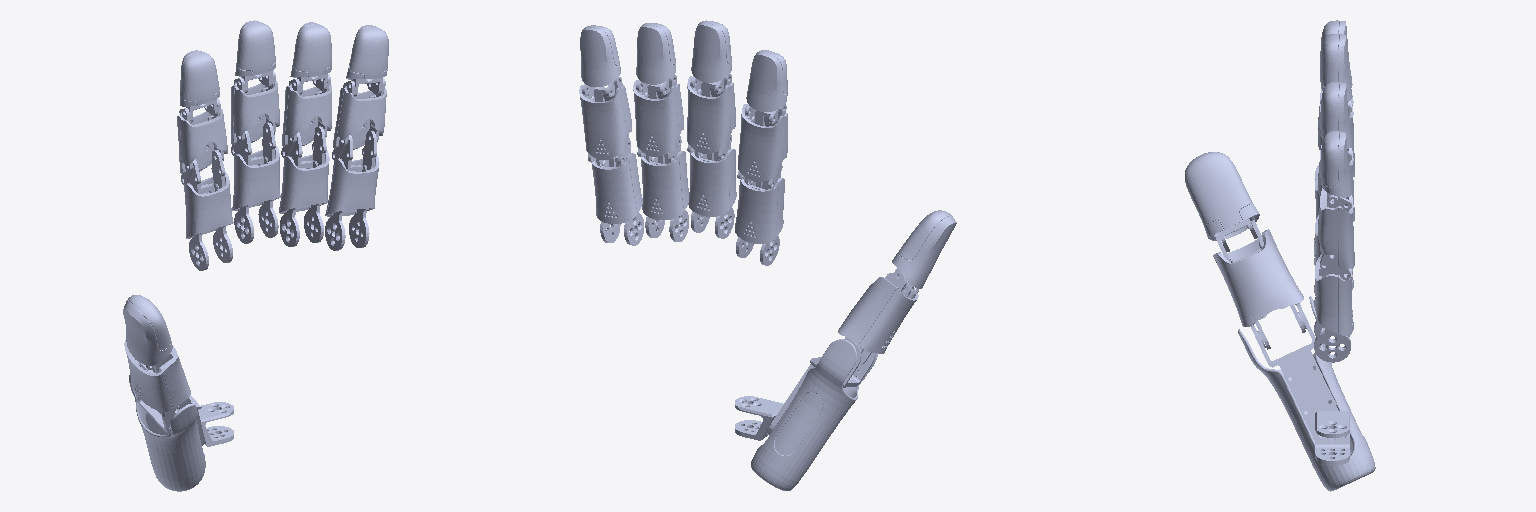
robot.urdf — lefthand:
<?xml version="1.0" encoding="utf-8"?>
<!-- This URDF was automatically created by SolidWorks to URDF Exporter! Originally created by [author] ([email redacted]) 
     Commit Version: 1.6.0-1-g15f4949  Build Version: 1.6.7594.29634
     For more information, please see http://wiki.ros.org/sw_urdf_exporter -->
<robot
  name="lefthand">
  <link
    name="base_link">
    <inertial>
      <origin
        xyz="0.0011546 0.0017609 0.058173"
        rpy="0 0 0" />
      <mass
        value="0.41998" />
      <inertia
        ixx="0.00023358"
        ixy="1.7595E-07"
        ixz="3.6135E-05"
        iyy="0.00042878"
        iyz="-1.3113E-05"
        izz="0.00023196" />
    </inertial>
    <visual>
      <origin
        xyz="0 0 0"
        rpy="0 0 0" />
      <geometry>
        <mesh
          filename="package://lefthand/meshes/base_link.dae" />
      </geometry>
      <material
        name="">
        <color
          rgba="0.79216 0.81961 0.93333 1" />
      </material>
    </visual>
    <collision>
      <origin
        xyz="0 0 0"
        rpy="0 0 0" />
      <geometry>
        <mesh
          filename="package://lefthand/meshes/base_link.dae" />
      </geometry>
    </collision>
  </link>
  <link
    name="index_Link1">
    <inertial>
      <origin
        xyz="0.018514 -0.00061104 -4.4346E-07"
        rpy="0 0 0" />
      <mass
        value="0.011981" />
      <inertia
        ixx="4.9084E-07"
        ixy="-1.4329E-08"
        ixz="-2.1282E-11"
        iyy="1.5764E-06"
        iyz="9.647E-12"
        izz="1.2249E-06" />
    </inertial>
    <visual>
      <origin
        xyz="0 0 0"
        rpy="0 0 0" />
      <geometry>
        <mesh
          filename="package://lefthand/meshes/index_Link1.dae" />
      </geometry>
      <material
        name="">
        <color
          rgba="0.79216 0.81961 0.93333 1" />
      </material>
    </visual>
    <collision>
      <origin
        xyz="0 0 0"
        rpy="0 0 0" />
      <geometry>
        <mesh
          filename="package://lefthand/meshes/index_Link1.dae" />
      </geometry>
    </collision>
  </link>
  <joint
    name="index_MCP"
    type="revolute">
    <origin
      xyz="-0.033581 0.005 0.11001"
      rpy="0 -1.501 3.1416" />
    <parent
      link="base_link" />
    <child
      link="index_Link1" />
    <axis
      xyz="0 0 1" />
    <limit
      lower="0"
      upper="1.5"
      effort="1"
      velocity="3" />
  </joint>
  <link
    name="index_Link2">
    <inertial>
      <origin
        xyz="0.0082825 -0.001941 -1.1297E-07"
        rpy="0 0 0" />
      <mass
        value="0.0060074" />
      <inertia
        ixx="2.6971E-07"
        ixy="-2.2245E-08"
        ixz="1.3382E-11"
        iyy="5.3814E-07"
        iyz="8.42E-12"
        izz="3.0793E-07" />
    </inertial>
    <visual>
      <origin
        xyz="0 0 0"
        rpy="0 0 0" />
      <geometry>
        <mesh
          filename="package://lefthand/meshes/index_Link2.dae" />
      </geometry>
      <material
        name="">
        <color
          rgba="0.79216 0.81961 0.93333 1" />
      </material>
    </visual>
    <collision>
      <origin
        xyz="0 0 0"
        rpy="0 0 0" />
      <geometry>
        <mesh
          filename="package://lefthand/meshes/index_Link2.dae" />
      </geometry>
    </collision>
  </link>
  <joint
    name="index_PIP"
    type="revolute">
    <origin
      xyz="0.0415 0 0"
      rpy="0 0 0" />
    <parent
      link="index_Link1" />
    <child
      link="index_Link2" />
    <axis
      xyz="0 0 1" />
    <limit
      lower="0"
      upper="1.5"
      effort="1"
      velocity="3" />
    <mimic 
       joint="index_MCP"
       multiplier="1.0"
       offset="0" />
  </joint>
  <link
    name="index_Link3">
    <inertial>
      <origin
        xyz="0.011297 -0.0007036 8.3368E-07"
        rpy="0 0 0" />
      <mass
        value="0.0040088" />
      <inertia
        ixx="9.0345E-08"
        ixy="8.3527E-10"
        ixz="8.0239E-12"
        iyy="2.173E-07"
        iyz="-1.1263E-11"
        izz="1.5733E-07" />
    </inertial>
    <visual>
      <origin
        xyz="0 0 0"
        rpy="0 0 0" />
      <geometry>
        <mesh
          filename="package://lefthand/meshes/index_Link3.dae" />
      </geometry>
      <material
        name="">
        <color
          rgba="0.79216 0.81961 0.93333 1" />
      </material>
    </visual>
    <collision>
      <origin
        xyz="0 0 0"
        rpy="0 0 0" />
      <geometry>
        <mesh
          filename="package://lefthand/meshes/index_Link3.dae" />
      </geometry>
    </collision>
  </link>
  <joint
    name="index_DIP"
    type="revolute">
    <origin
      xyz="0.0245 0 0"
      rpy="0 0 0" />
    <parent
      link="index_Link2" />
    <child
      link="index_Link3" />
    <axis
      xyz="0 0 1" />
    <limit
      lower="0"
      upper="1.5"
      effort="1"
      velocity="3" />
    <mimic 
      joint="index_PIP"
      multiplier="0.8"
      offset="0" />
  </joint>
  <link
    name="thumb_Link1">
    <inertial>
      <origin
        xyz="0.023455 0.0065195 0.00709"
        rpy="0 0 0" />
      <mass
        value="0.069899" />
      <inertia
        ixx="1.7581E-05"
        ixy="-2.2268E-06"
        ixz="-4.9103E-06"
        iyy="1.6388E-05"
        iyz="-3.9623E-06"
        izz="1.1323E-05" />
    </inertial>
    <visual>
      <origin
        xyz="0 0 0"
        rpy="0 0 0" />
      <geometry>
        <mesh
          filename="package://lefthand/meshes/thumb_Link1.dae" />
      </geometry>
      <material
        name="">
        <color
          rgba="0.79216 0.81961 0.93333 1" />
      </material>
    </visual>
    <collision>
      <origin
        xyz="0 0 0"
        rpy="0 0 0" />
      <geometry>
        <mesh
          filename="package://lefthand/meshes/thumb_Link1.dae" />
      </geometry>
    </collision>
  </link>
  <joint
    name="thumb_CMC"
    type="revolute">
    <origin
      xyz="-0.03 0.005 0.031"
      rpy="0 0 3.1416" />
    <parent
      link="base_link" />
    <child
      link="thumb_Link1" />
    <axis
      xyz="0 0 1" />
    <limit
      lower="-0.5"
      upper="1.5"
      effort="1"
      velocity="3" />
  </joint>
  <link
    name="thumb_Link2">
    <inertial>
      <origin
        xyz="0.019578 0.0022668 -1.2981E-06"
        rpy="0 0 0" />
      <mass
        value="0.014007" />
      <inertia
        ixx="9.4043E-07"
        ixy="4.0439E-08"
        ixz="-2.041E-10"
        iyy="1.8622E-06"
        iyz="-4.8342E-11"
        izz="1.2635E-06" />
    </inertial>
    <visual>
      <origin
        xyz="0 0 0"
        rpy="0 0 0" />
      <geometry>
        <mesh
          filename="package://lefthand/meshes/thumb_Link2.dae" />
      </geometry>
      <material
        name="">
        <color
          rgba="0.79216 0.81961 0.93333 1" />
      </material>
    </visual>
    <collision>
      <origin
        xyz="0 0 0"
        rpy="0 0 0" />
      <geometry>
        <mesh
          filename="package://lefthand/meshes/thumb_Link2.dae" />
      </geometry>
    </collision>
  </link>
  <joint
    name="thumb_MP"
    type="revolute">
    <origin
      xyz="0.037554 0.019018 0.029117"
      rpy="0.83451 -0.96385 0.83451" />
    <parent
      link="thumb_Link1" />
    <child
      link="thumb_Link2" />
    <axis
      xyz="0 0 1" />
    <limit
      lower="-1"
      upper="1"
      effort="1"
      velocity="3" />
  </joint>
  <link
    name="thumb_Link3">
    <inertial>
      <origin
        xyz="0.015427 0.00030817 4.6145E-05"
        rpy="0 0 0" />
      <mass
        value="0.0069853" />
      <inertia
        ixx="2.4628E-07"
        ixy="2.2831E-08"
        ixz="-6.4653E-10"
        iyy="5.9224E-07"
        iyz="1.1226E-09"
        izz="4.4492E-07" />
    </inertial>
    <visual>
      <origin
        xyz="0 0 0"
        rpy="0 0 0" />
      <geometry>
        <mesh
          filename="package://lefthand/meshes/thumb_Link3.dae" />
      </geometry>
      <material
        name="">
        <color
          rgba="0.79216 0.81961 0.93333 1" />
      </material>
    </visual>
    <collision>
      <origin
        xyz="0 0 0"
        rpy="0 0 0" />
      <geometry>
        <mesh
          filename="package://lefthand/meshes/thumb_Link3.dae" />
      </geometry>
    </collision>
  </link>
  <joint
    name="thumb_IP"
    type="revolute">
    <origin
      xyz="0.04 0 0"
      rpy="0 0 0" />
    <parent
      link="thumb_Link2" />
    <child
      link="thumb_Link3" />
    <axis
      xyz="0 0 1" />
    <limit
      lower="0"
      upper="1"
      effort="1"
      velocity="3" />
  </joint>
  <link
    name="middle_Link1">
    <inertial>
      <origin
        xyz="0.018514 -0.00061105 -4.4409E-07"
        rpy="0 0 0" />
      <mass
        value="0.011981" />
      <inertia
        ixx="4.9084E-07"
        ixy="-1.4329E-08"
        ixz="-2.1722E-11"
        iyy="1.5764E-06"
        iyz="9.5695E-12"
        izz="1.2249E-06" />
    </inertial>
    <visual>
      <origin
        xyz="0 0 0"
        rpy="0 0 0" />
      <geometry>
        <mesh
          filename="package://lefthand/meshes/middle_Link1.dae" />
      </geometry>
      <material
        name="">
        <color
          rgba="0.79216 0.81961 0.93333 1" />
      </material>
    </visual>
    <collision>
      <origin
        xyz="0 0 0"
        rpy="0 0 0" />
      <geometry>
        <mesh
          filename="package://lefthand/meshes/middle_Link1.dae" />
      </geometry>
    </collision>
  </link>
  <joint
    name="middle_MCP"
    type="revolute">
    <origin
      xyz="-0.012 0.005 0.117"
      rpy="-3.1416 -1.5708 0" />
    <parent
      link="base_link" />
    <child
      link="middle_Link1" />
    <axis
      xyz="0 0 1" />
    <limit
      lower="0"
      upper="1.5"
      effort="1"
      velocity="3" />
  </joint>
  <link
    name="middle_Link2">
    <inertial>
      <origin
        xyz="0.013657 -0.001941 -1.4023E-07"
        rpy="0 0 0" />
      <mass
        value="0.0060074" />
      <inertia
        ixx="2.6971E-07"
        ixy="-2.2245E-08"
        ixz="1.2735E-11"
        iyy="5.3814E-07"
        iyz="8.7891E-12"
        izz="3.0793E-07" />
    </inertial>
    <visual>
      <origin
        xyz="0 0 0"
        rpy="0 0 0" />
      <geometry>
        <mesh
          filename="package://lefthand/meshes/middle_Link2.dae" />
      </geometry>
      <material
        name="">
        <color
          rgba="0.79216 0.81961 0.93333 1" />
      </material>
    </visual>
    <collision>
      <origin
        xyz="0 0 0"
        rpy="0 0 0" />
      <geometry>
        <mesh
          filename="package://lefthand/meshes/middle_Link2.dae" />
      </geometry>
    </collision>
  </link>
  <joint
    name="middle_PIP"
    type="revolute">
    <origin
      xyz="0.036125 0 0"
      rpy="0 0 0" />
    <parent
      link="middle_Link1" />
    <child
      link="middle_Link2" />
    <axis
      xyz="0 0 1" />
    <limit
      lower="0"
      upper="1.5"
      effort="1"
      velocity="3" />
    <mimic 
      joint="middle_MCP"
      multiplier="1.0"
      offset="0" />
  </joint>
  <link
    name="middle_Link3">
    <inertial>
      <origin
        xyz="0.011297 -0.00070372 5.4464E-07"
        rpy="0 0 0" />
      <mass
        value="0.0040087" />
      <inertia
        ixx="9.0335E-08"
        ixy="8.3332E-10"
        ixz="5.552E-12"
        iyy="2.1729E-07"
        iyz="-4.7458E-12"
        izz="1.5732E-07" />
    </inertial>
    <visual>
      <origin
        xyz="0 0 0"
        rpy="0 0 0" />
      <geometry>
        <mesh
          filename="package://lefthand/meshes/middle_Link3.dae" />
      </geometry>
      <material
        name="">
        <color
          rgba="0.79216 0.81961 0.93333 1" />
      </material>
    </visual>
    <collision>
      <origin
        xyz="0 0 0"
        rpy="0 0 0" />
      <geometry>
        <mesh
          filename="package://lefthand/meshes/middle_Link3.dae" />
      </geometry>
    </collision>
  </link>
  <joint
    name="middle_DIP"
    type="revolute">
    <origin
      xyz="0.029875 0 0"
      rpy="0 0 0" />
    <parent
      link="middle_Link2" />
    <child
      link="middle_Link3" />
    <axis
      xyz="0 0 1" />
    <limit
      lower="0"
      upper="1.5"
      effort="1"
      velocity="3" />
    <mimic 
      joint="middle_PIP"
      multiplier="0.8"
      offset="0" />
  </joint>
  <link
    name="ring_Link1">
    <inertial>
      <origin
        xyz="0.018514 -0.00061106 -4.4635E-07"
        rpy="0 0 0" />
      <mass
        value="0.011981" />
      <inertia
        ixx="4.9084E-07"
        ixy="-1.433E-08"
        ixz="-2.2208E-11"
        iyy="1.5764E-06"
        iyz="9.5807E-12"
        izz="1.2249E-06" />
    </inertial>
    <visual>
      <origin
        xyz="0 0 0"
        rpy="0 0 0" />
      <geometry>
        <mesh
          filename="package://lefthand/meshes/ring_Link1.dae" />
      </geometry>
      <material
        name="">
        <color
          rgba="0.79216 0.81961 0.93333 1" />
      </material>
    </visual>
    <collision>
      <origin
        xyz="0 0 0"
        rpy="0 0 0" />
      <geometry>
        <mesh
          filename="package://lefthand/meshes/ring_Link1.dae" />
      </geometry>
    </collision>
  </link>
  <joint
    name="ring_MCP"
    type="revolute">
    <origin
      xyz="0.0095815 0.005 0.11001"
      rpy="-3.1416 -1.501 0" />
    <parent
      link="base_link" />
    <child
      link="ring_Link1" />
    <axis
      xyz="0 0 1" />
    <limit
      lower="0"
      upper="1.5"
      effort="1"
      velocity="3" />
  </joint>
  <link
    name="ring_Link2">
    <inertial>
      <origin
        xyz="0.0082824 -0.001941 -1.3504E-07"
        rpy="0 0 0" />
      <mass
        value="0.0060074" />
      <inertia
        ixx="2.6971E-07"
        ixy="-2.2245E-08"
        ixz="1.2713E-11"
        iyy="5.3814E-07"
        iyz="8.8088E-12"
        izz="3.0793E-07" />
    </inertial>
    <visual>
      <origin
        xyz="0 0 0"
        rpy="0 0 0" />
      <geometry>
        <mesh
          filename="package://lefthand/meshes/ring_Link2.dae" />
      </geometry>
      <material
        name="">
        <color
          rgba="0.79216 0.81961 0.93333 1" />
      </material>
    </visual>
    <collision>
      <origin
        xyz="0 0 0"
        rpy="0 0 0" />
      <geometry>
        <mesh
          filename="package://lefthand/meshes/ring_Link2.dae" />
      </geometry>
    </collision>
  </link>
  <joint
    name="ring_PIP"
    type="revolute">
    <origin
      xyz="0.0415 0 0"
      rpy="0 0 0" />
    <parent
      link="ring_Link1" />
    <child
      link="ring_Link2" />
    <axis
      xyz="0 0 1" />
    <limit
      lower="0"
      upper="1.5"
      effort="1"
      velocity="3" />
    <mimic 
      joint="ring_MCP"
      multiplier="1.0"
      offset="0" />
  </joint>
  <link
    name="ring_Link3">
    <inertial>
      <origin
        xyz="0.011297 -0.00070376 4.4952E-07"
        rpy="0 0 0" />
      <mass
        value="0.0040086" />
      <inertia
        ixx="9.0332E-08"
        ixy="8.3253E-10"
        ixz="4.175E-12"
        iyy="2.1729E-07"
        iyz="-2.2751E-12"
        izz="1.5732E-07" />
    </inertial>
    <visual>
      <origin
        xyz="0 0 0"
        rpy="0 0 0" />
      <geometry>
        <mesh
          filename="package://lefthand/meshes/ring_Link3.dae" />
      </geometry>
      <material
        name="">
        <color
          rgba="0.79216 0.81961 0.93333 1" />
      </material>
    </visual>
    <collision>
      <origin
        xyz="0 0 0"
        rpy="0 0 0" />
      <geometry>
        <mesh
          filename="package://lefthand/meshes/ring_Link3.dae" />
      </geometry>
    </collision>
  </link>
  <joint
    name="ring_DIP"
    type="revolute">
    <origin
      xyz="0.0245 0 0"
      rpy="0 0 0" />
    <parent
      link="ring_Link2" />
    <child
      link="ring_Link3" />
    <axis
      xyz="0 0 1" />
    <limit
      lower="0"
      upper="1.5"
      effort="1"
      velocity="3" />
    <mimic 
      joint="ring_PIP"
      multiplier="0.8"
      offset="0" />
  </joint>
  <link
    name="little_Link1">
    <inertial>
      <origin
        xyz="0.018514 -0.00061106 -4.4635E-07"
        rpy="0 0 0" />
      <mass
        value="0.011981" />
      <inertia
        ixx="4.9084E-07"
        ixy="-1.433E-08"
        ixz="-2.2208E-11"
        iyy="1.5764E-06"
        iyz="9.5807E-12"
        izz="1.2249E-06" />
    </inertial>
    <visual>
      <origin
        xyz="0 0 0"
        rpy="0 0 0" />
      <geometry>
        <mesh
          filename="package://lefthand/meshes/little_Link1.dae" />
      </geometry>
      <material
        name="">
        <color
          rgba="0.79216 0.81961 0.93333 1" />
      </material>
    </visual>
    <collision>
      <origin
        xyz="0 0 0"
        rpy="0 0 0" />
      <geometry>
        <mesh
          filename="package://lefthand/meshes/little_Link1.dae" />
      </geometry>
    </collision>
  </link>
  <joint
    name="little_MCP"
    type="revolute">
    <origin
      xyz="0.031165 0.005 0.10306"
      rpy="-3.1416 -1.4312 0" />
    <parent
      link="base_link" />
    <child
      link="little_Link1" />
    <axis
      xyz="0 0 1" />
    <limit
      lower="0"
      upper="1.5"
      effort="1"
      velocity="3" />
  </joint>
  <link
    name="little_Link2">
    <inertial>
      <origin
        xyz="0.0082824 -0.001941 -1.3751E-07"
        rpy="0 0 0" />
      <mass
        value="0.0060074" />
      <inertia
        ixx="2.6971E-07"
        ixy="-2.2245E-08"
        ixz="1.2871E-11"
        iyy="5.3814E-07"
        iyz="8.8404E-12"
        izz="3.0793E-07" />
    </inertial>
    <visual>
      <origin
        xyz="0 0 0"
        rpy="0 0 0" />
      <geometry>
        <mesh
          filename="package://lefthand/meshes/little_Link2.dae" />
      </geometry>
      <material
        name="">
        <color
          rgba="0.79216 0.81961 0.93333 1" />
      </material>
    </visual>
    <collision>
      <origin
        xyz="0 0 0"
        rpy="0 0 0" />
      <geometry>
        <mesh
          filename="package://lefthand/meshes/little_Link2.dae" />
      </geometry>
    </collision>
  </link>
  <joint
    name="little_PIP"
    type="revolute">
    <origin
      xyz="0.0415 0 0"
      rpy="0 0 0" />
    <parent
      link="little_Link1" />
    <child
      link="little_Link2" />
    <axis
      xyz="0 0 1" />
    <limit
      lower="0"
      upper="1.5"
      effort="1"
      velocity="3" />
    <mimic 
      joint="little_MCP"
      multiplier="1.0"
      offset="0" />
  </joint>
  <link
    name="little_Link3">
    <inertial>
      <origin
        xyz="0.011297 -0.00070377 4.4851E-07"
        rpy="0 0 0" />
      <mass
        value="0.0040086" />
      <inertia
        ixx="9.0332E-08"
        ixy="8.3248E-10"
        ixz="3.8929E-12"
        iyy="2.1729E-07"
        iyz="-2.3079E-12"
        izz="1.5732E-07" />
    </inertial>
    <visual>
      <origin
        xyz="0 0 0"
        rpy="0 0 0" />
      <geometry>
        <mesh
          filename="package://lefthand/meshes/little_Link3.dae" />
      </geometry>
      <material
        name="">
        <color
          rgba="0.79216 0.81961 0.93333 1" />
      </material>
    </visual>
    <collision>
      <origin
        xyz="0 0 0"
        rpy="0 0 0" />
      <geometry>
        <mesh
          filename="package://lefthand/meshes/little_Link3.dae" />
      </geometry>
    </collision>
  </link>
  <joint
    name="little_DIP"
    type="revolute">
    <origin
      xyz="0.0245 0 0"
      rpy="0 0 0" />
    <parent
      link="little_Link2" />
    <child
      link="little_Link3" />
    <axis
      xyz="0 0 1" />
    <limit
      lower="0"
      upper="1.5"
      effort="1"
      velocity="3" />
    <mimic 
      joint="little_PIP"
      multiplier="0.8"
      offset="0" />
  </joint>
</robot>

--- Render facts (derived) ---
Views: 3 orthographic renders of the robot side by side, from view 1: azimuth 30°, elevation 25°; view 2: azimuth 150°, elevation 25°; view 3: azimuth 270°, elevation 25°.
Model lefthand with 16 links and 15 joints (15 revolute), rooted at base_link, posed all joints at 0.
Links seen in each view (by area): view 1: thumb_Link1, little_Link1, ring_Link1, middle_Link1, index_Link1, little_Link2, ring_Link2, middle_Link2, index_Link2, thumb_Link2, thumb_Link3, little_Link3 (+3 smaller); view 2: thumb_Link1, thumb_Link2, little_Link1, ring_Link1, middle_Link1, index_Link1, little_Link2, ring_Link2, middle_Link2, index_Link2, thumb_Link3, little_Link3 (+3 smaller); view 3: thumb_Link1, thumb_Link2, thumb_Link3, little_Link1, little_Link2, little_Link3, ring_Link3, middle_Link3.
Link boxes in pixels (bbox=[...]): thumb_Link1: bbox=[129, 375, 233, 491]; little_Link1: bbox=[325, 131, 379, 250]; ring_Link1: bbox=[279, 126, 329, 246]; middle_Link1: bbox=[232, 122, 280, 243]; index_Link1: bbox=[184, 150, 233, 270]; little_Link2: bbox=[332, 78, 386, 159]; ring_Link2: bbox=[281, 74, 331, 157]; middle_Link2: bbox=[231, 70, 279, 155]; index_Link2: bbox=[177, 98, 227, 184]; thumb_Link2: bbox=[124, 340, 190, 411]; thumb_Link3: bbox=[123, 295, 172, 369]; little_Link3: bbox=[343, 25, 388, 96]; thumb_Link1: bbox=[735, 339, 877, 490]; thumb_Link2: bbox=[838, 272, 918, 364]; little_Link1: bbox=[591, 138, 643, 245]; ring_Link1: bbox=[641, 136, 688, 241]; middle_Link1: bbox=[688, 135, 736, 238]; index_Link1: bbox=[735, 166, 784, 265]; little_Link2: bbox=[579, 77, 631, 164]; ring_Link2: bbox=[633, 75, 683, 162]; middle_Link2: bbox=[687, 74, 735, 159]; index_Link2: bbox=[737, 104, 787, 188]; thumb_Link3: bbox=[892, 210, 956, 294]; little_Link3: bbox=[580, 25, 620, 96]; thumb_Link1: bbox=[1238, 296, 1375, 491]; thumb_Link2: bbox=[1213, 220, 1305, 349]; thumb_Link3: bbox=[1185, 152, 1259, 251]; little_Link1: bbox=[1314, 246, 1353, 362]; little_Link2: bbox=[1318, 188, 1354, 279]; little_Link3: bbox=[1320, 131, 1352, 210]; ring_Link3: bbox=[1320, 82, 1352, 161]; middle_Link3: bbox=[1320, 34, 1352, 113].
Size in the robot's own frame: 0.1505 by 0.0716 by 0.2037 metres.
Meshes: 16 distinct files referenced, 15 mesh visuals loaded (15 Collada DAE); not drawn: 1 (reference not matched to a file when rendering).